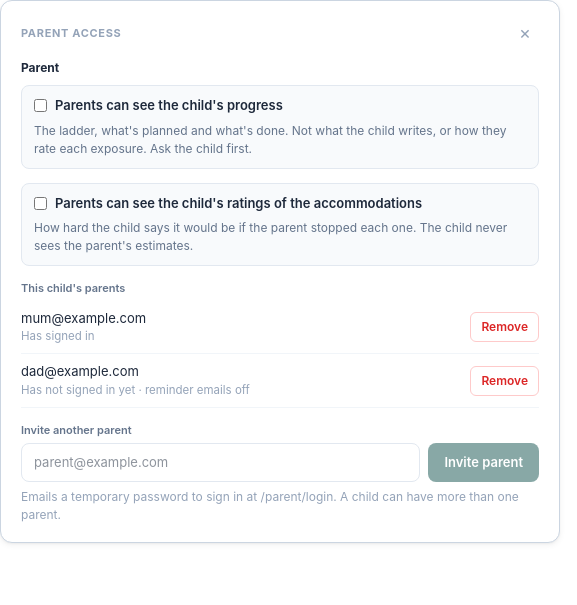
a child with two parents › says so when the email is already a parent, instead of sending anything
The image size is (577, 605).
Expected: the text "mum@example.com" is shown, [21,310,146,326]
Type "mum@example.com" into the field with placeholder "parent@example.com".
click(221, 462); type("mum@example.com")  # box [21,442,420,482]
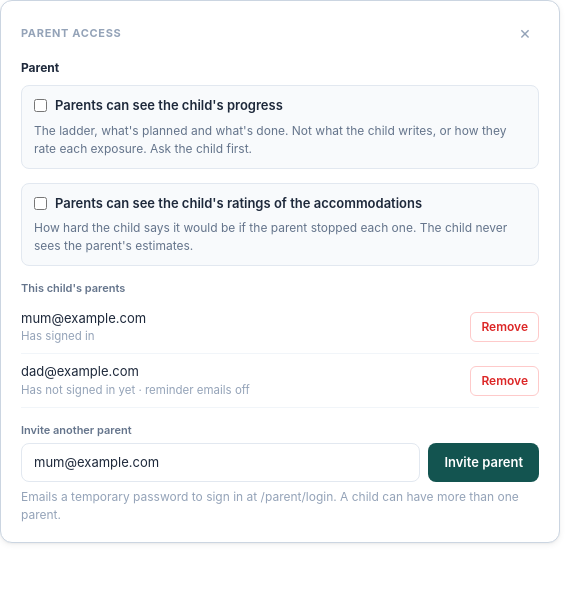
Click the button "Invite parent".
click(484, 462)  # box [428,442,539,482]
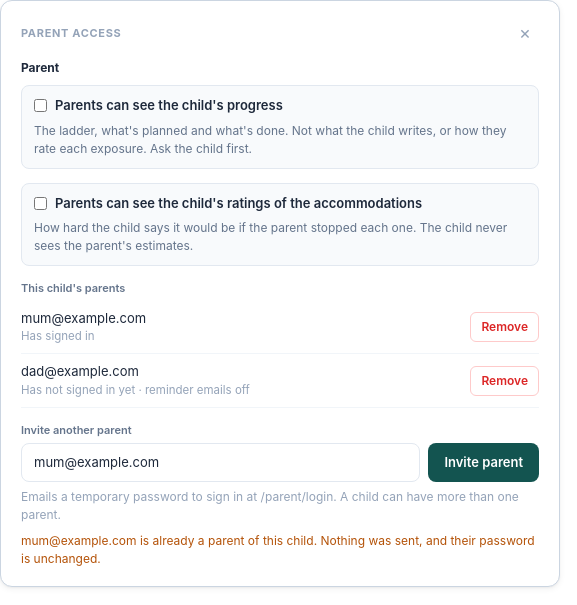
Now the text "is already a parent of this child" is shown, box [21,533,535,566]
